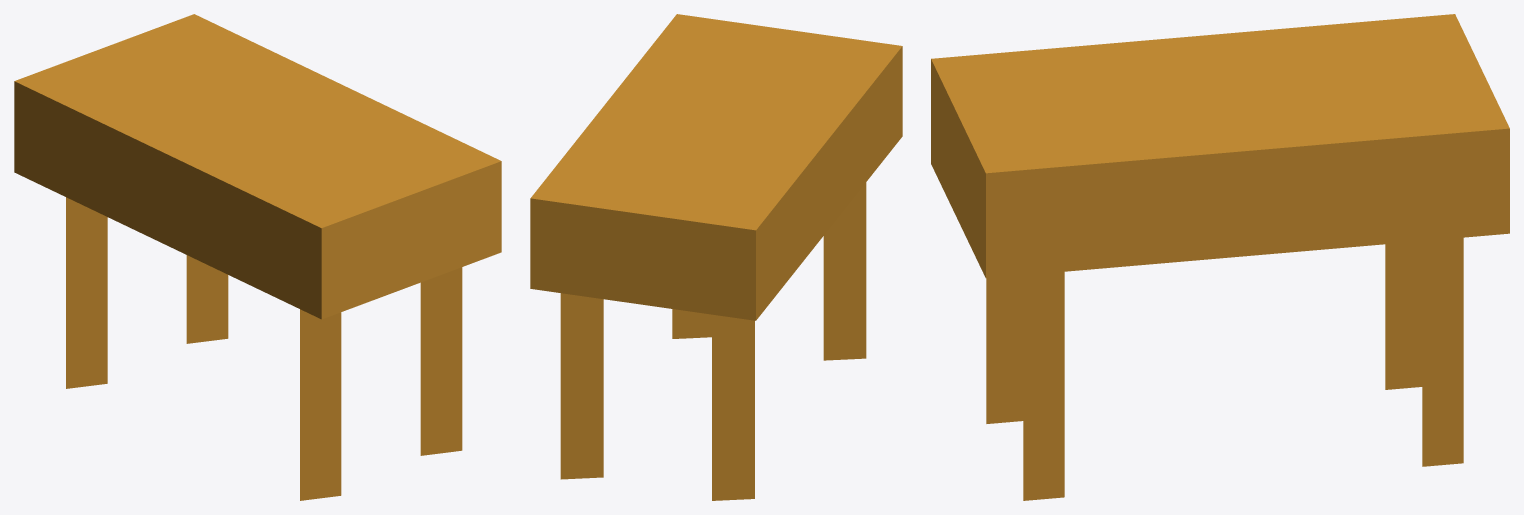
The model's file is STOOL 2.fbx.
3 views of the same model, side by side, from view 1: azimuth 30°, elevation 25°; view 2: azimuth 150°, elevation 25°; view 3: azimuth 270°, elevation 25° (orthographic). The views are drawn at different scales.
Visible parts, largest first — view 1: STOOL_2; view 2: STOOL_2; view 3: STOOL_2.
Part boxes in pixels (<box>): STOOL_2: <box>14,14,501,500</box>; STOOL_2: <box>530,14,902,500</box>; STOOL_2: <box>931,14,1509,500</box>.
Bounding box in the file's own units: 58.26 × 58.08 × 89.45.
Materials: 1 (1 with a texture image).
